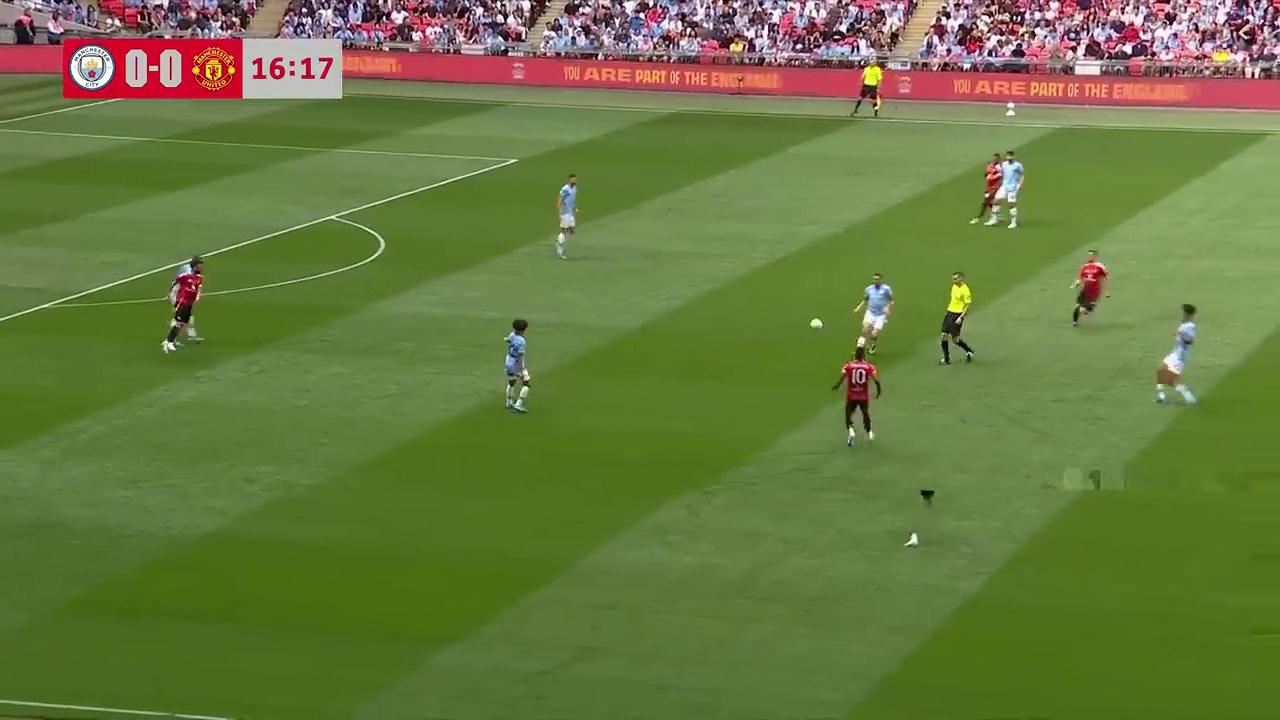ball: (808, 314, 825, 332)
player: (831, 346, 881, 448), (1153, 303, 1199, 406), (162, 263, 204, 354), (852, 272, 894, 354), (1069, 250, 1109, 327), (181, 251, 212, 346), (504, 319, 530, 412), (970, 155, 1004, 226), (997, 151, 1024, 229), (555, 173, 578, 258)
referee: (938, 271, 974, 364), (856, 58, 882, 119)
